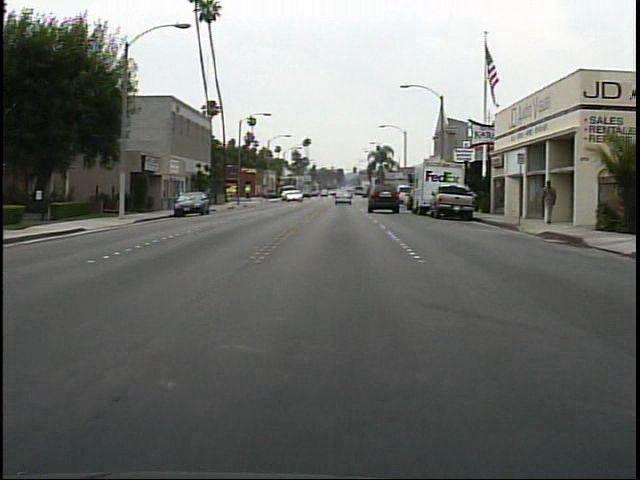person: (536, 177, 561, 229)
